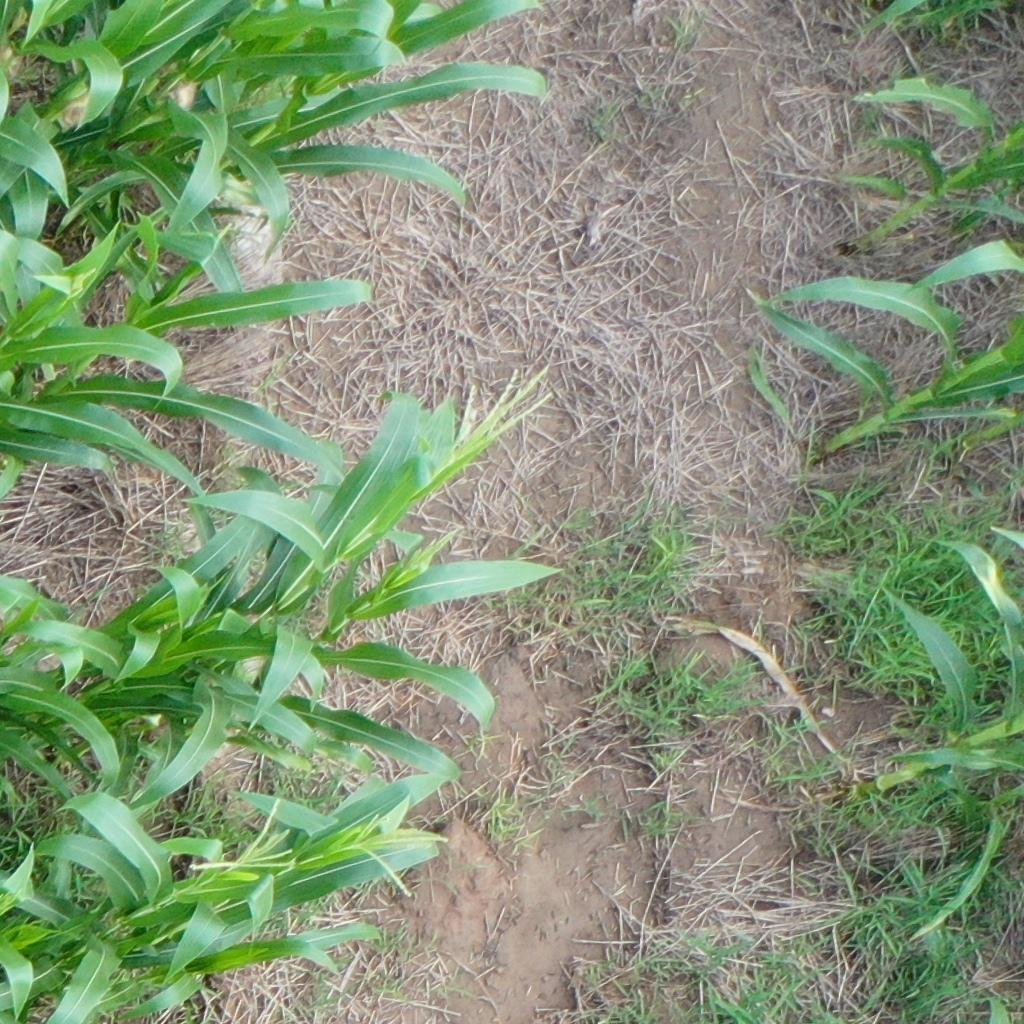Tassel: (191, 793, 295, 886), (352, 810, 452, 900), (455, 361, 548, 452), (398, 521, 461, 579), (1, 882, 23, 914), (70, 269, 96, 292)
